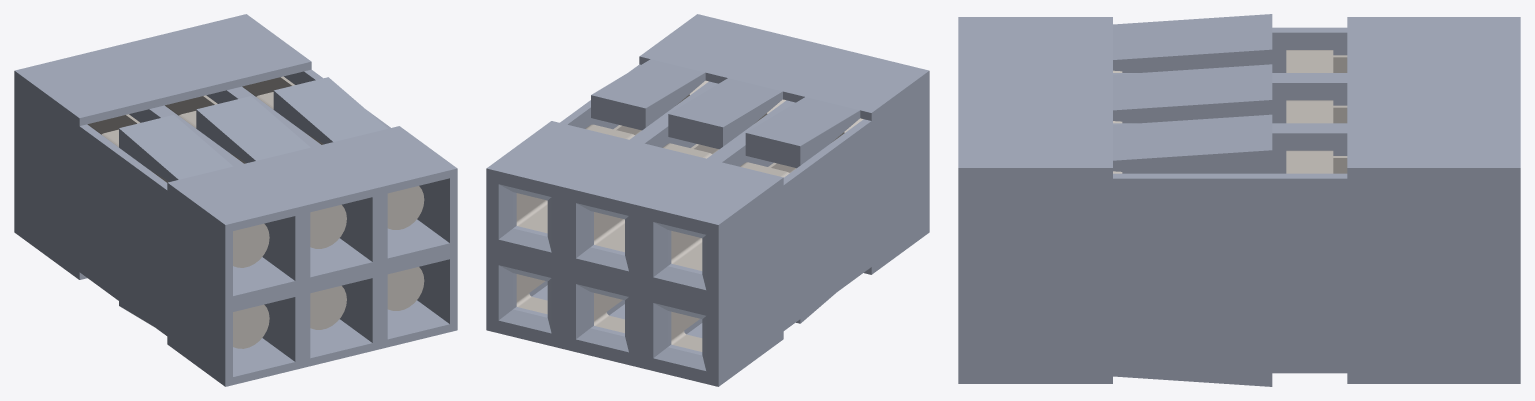
3 renders of one model, left to right at view 1: azimuth 30°, elevation 25°; view 2: azimuth 150°, elevation 25°; view 3: azimuth 270°, elevation 25°, orthographic. The views are drawn at different scales.
Visible parts, largest first — view 1: DS1071-2x3; view 2: DS1071-2x3; view 3: DS1071-2x3.
Part boxes in pixels (x1,y1,x2,y2): DS1071-2x3: (14,14,457,386); DS1071-2x3: (486,14,929,386); DS1071-2x3: (958,14,1520,386).
Size of the model in its own units: 0.00705 by 0.00515 by 0.0111.
